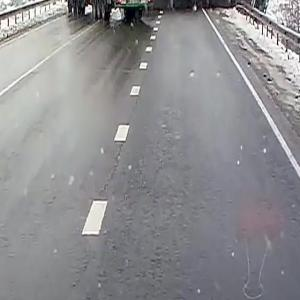fatal: (62, 0, 268, 27)
